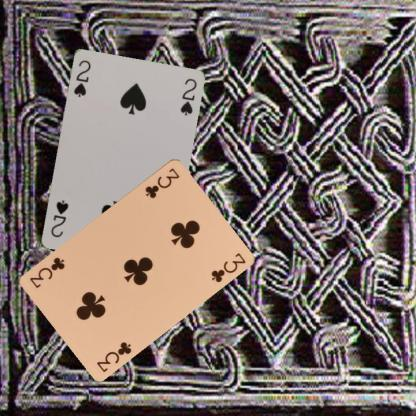2s: (70, 57, 92, 98)
3c: (93, 339, 133, 373), (142, 165, 181, 199)
